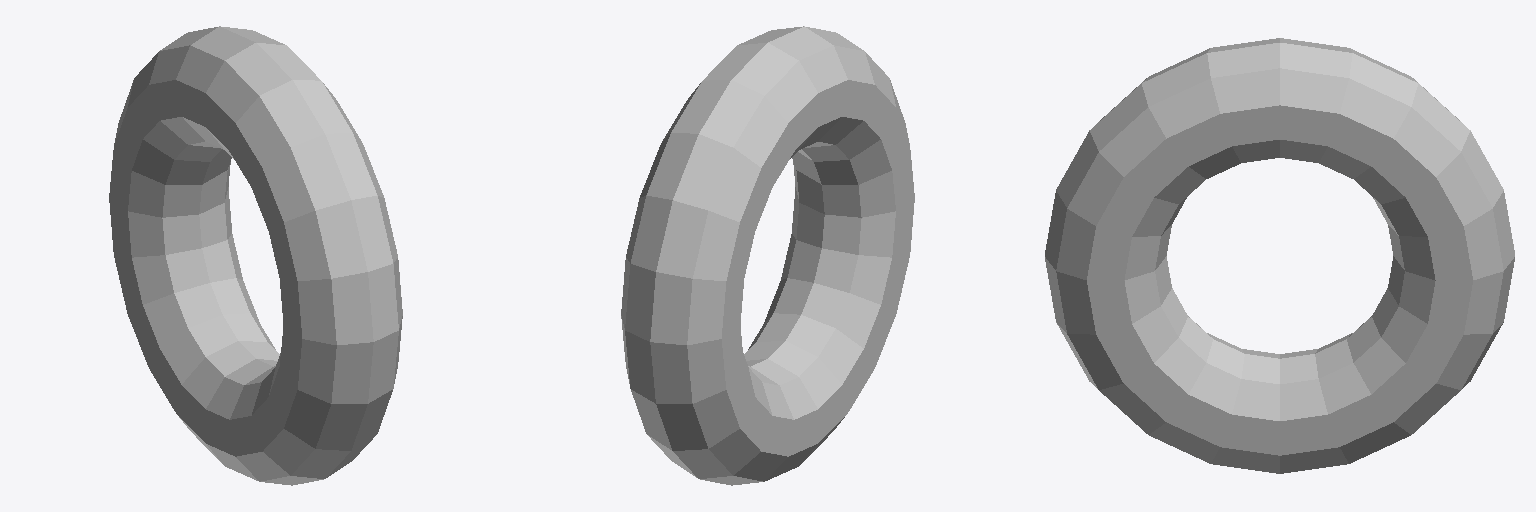
File: torus-flat.obj
3 views of the same model, side by side, from view 1: azimuth 30°, elevation 25°; view 2: azimuth 150°, elevation 25°; view 3: azimuth 270°, elevation 25° (orthographic).
Parts seen in each view (by area): view 1: Torus; view 2: Torus; view 3: Torus.
Part boxes in pixels (bbox=[...]): Torus: bbox=[109, 26, 402, 485]; Torus: bbox=[621, 26, 914, 485]; Torus: bbox=[1045, 38, 1514, 473].
Size of the model in its own units: 0.6657 by 2.7 by 2.7.